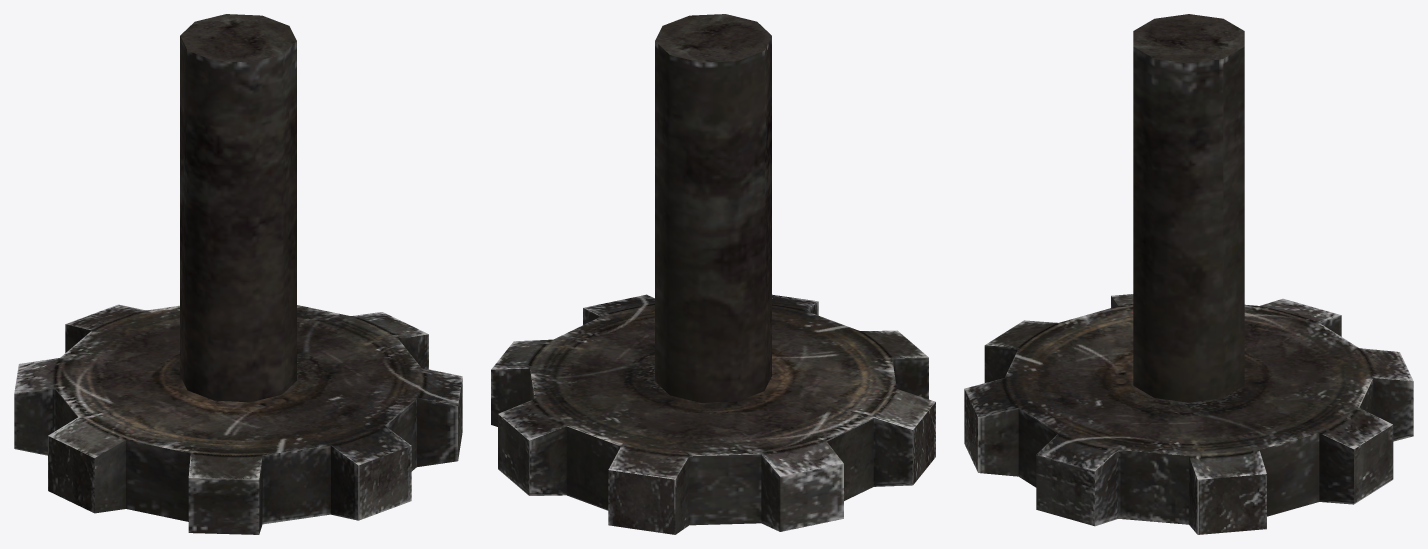
Rendered from ceiling_machinery_cog.dae.
3 renders of one model, left to right at view 1: azimuth 30°, elevation 25°; view 2: azimuth 150°, elevation 25°; view 3: azimuth 270°, elevation 25°, orthographic.
Visible parts, largest first — view 1: cog, pole_static; view 2: cog, pole_static; view 3: cog, pole_static.
Part boxes in pixels (left/top/right/bottom): cog: left=14, top=304, right=462, bottom=534; pole_static: left=180, top=14, right=296, bottom=402; cog: left=491, top=294, right=935, bottom=534; pole_static: left=655, top=14, right=771, bottom=402; cog: left=964, top=294, right=1413, bottom=534; pole_static: left=1133, top=14, right=1244, bottom=402.
Size of the model in its own units: 0.935 by 0.937 by 0.935.
